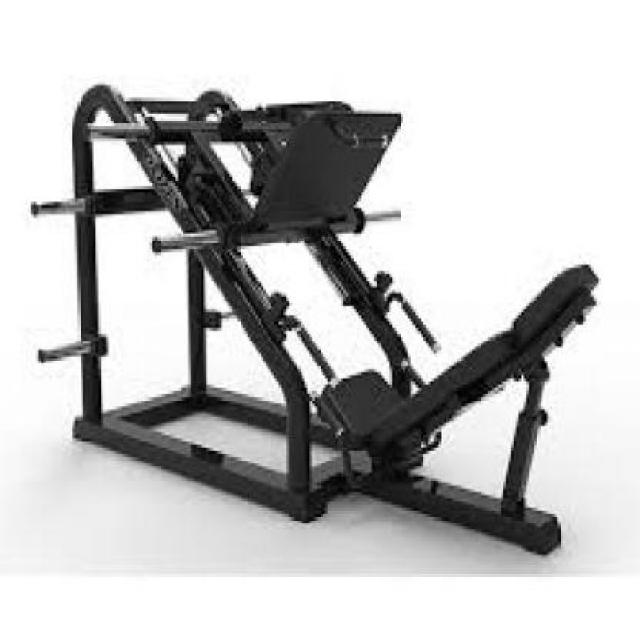leg press: (29, 57, 620, 572)
